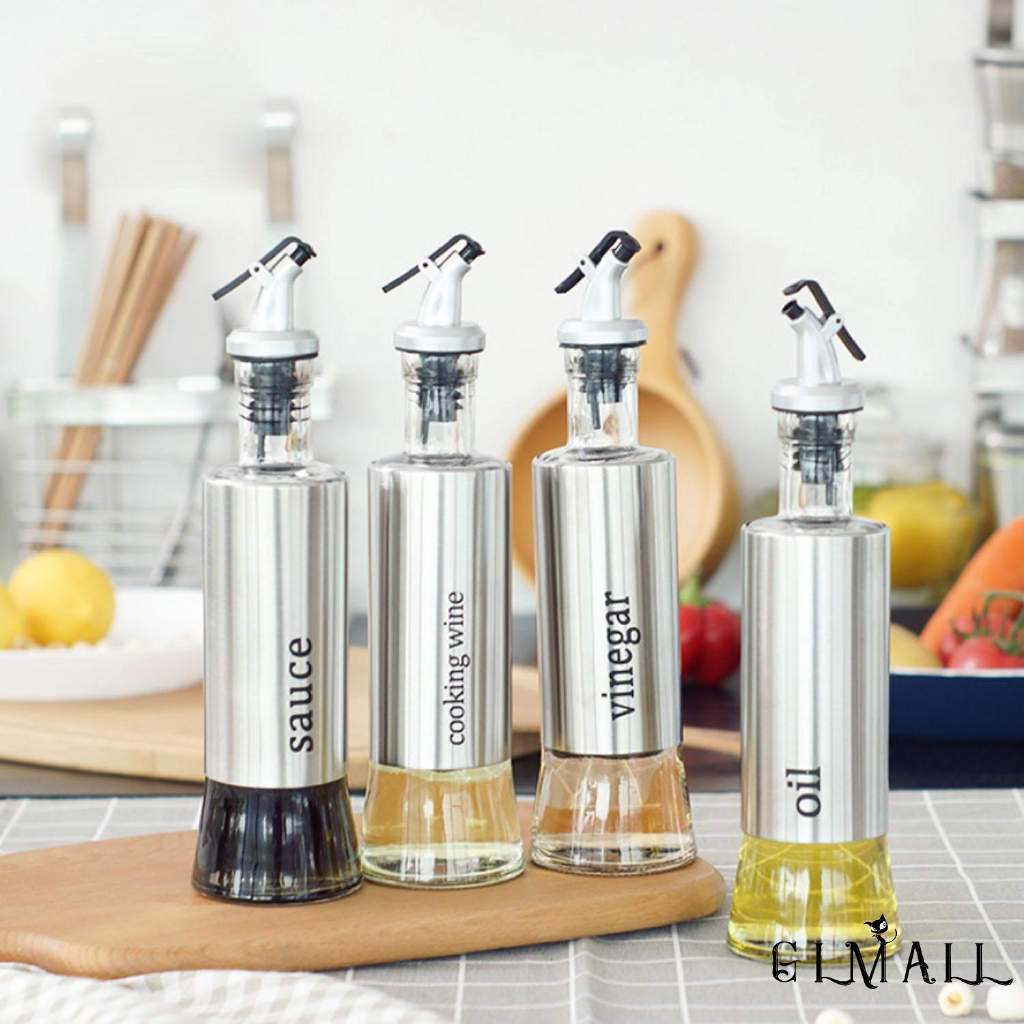glass_bottleww: (703, 268, 918, 982), (346, 227, 541, 897), (183, 221, 365, 914), (518, 226, 707, 885)
